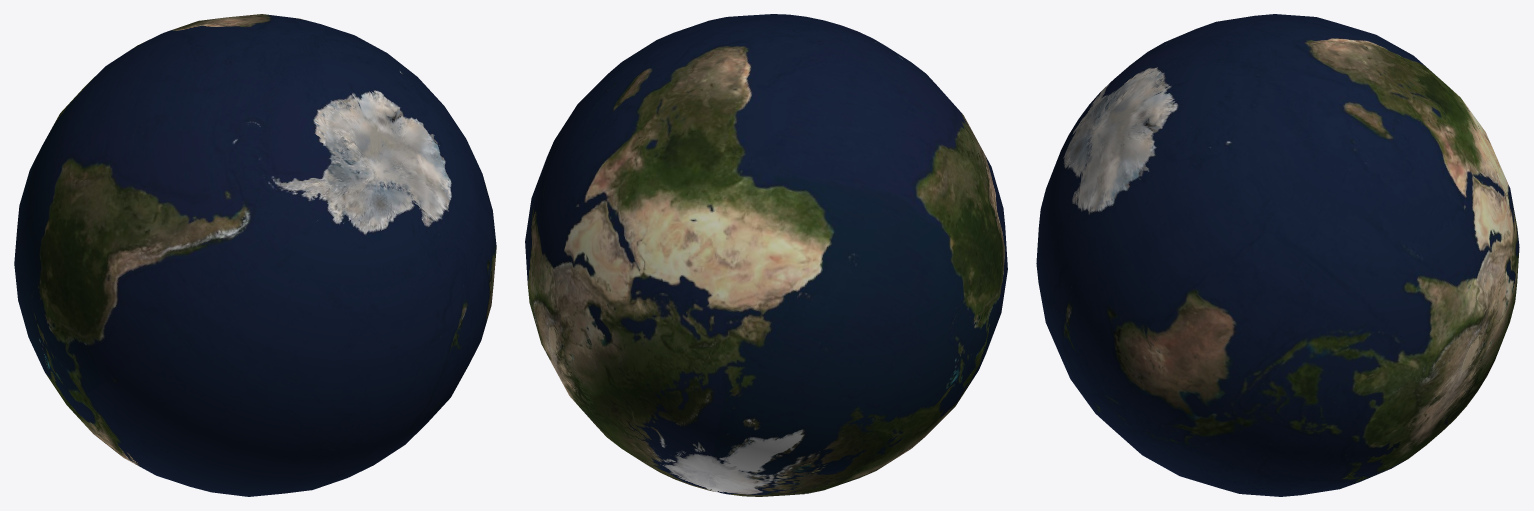
Rendered from earthnewer.glb.
3 renders of one model, left to right at view 1: azimuth 30°, elevation 25°; view 2: azimuth 150°, elevation 25°; view 3: azimuth 270°, elevation 25°, orthographic.
Visible parts, largest first — view 1: Sphere; view 2: Sphere; view 3: Sphere.
Boxes of the visible parts, x1,y1,x2,y2 form: Sphere: (14,14,496,496); Sphere: (525,14,1007,496); Sphere: (1036,14,1519,496).
Bounding box in the file's own units: 2 × 1.99 × 2.
Materials: 1 (1 with a texture image).
